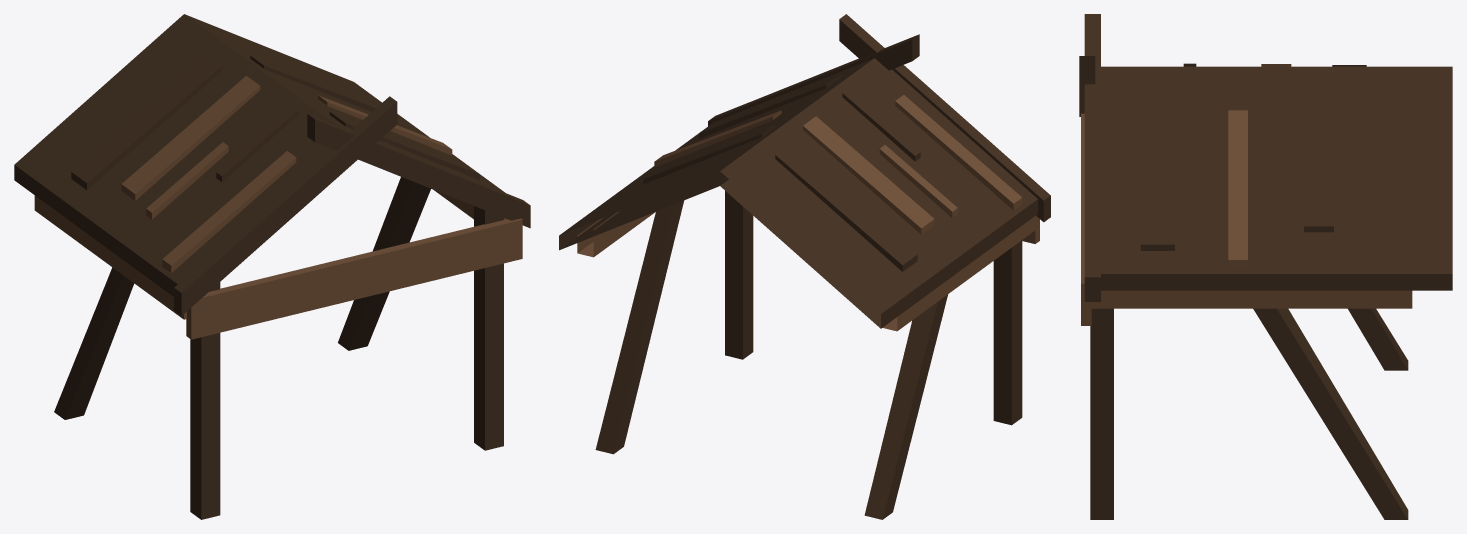
The model's file is mine_entrance_1_mat.fbx.
3 views of the same model, side by side, from view 1: azimuth 30°, elevation 25°; view 2: azimuth 150°, elevation 25°; view 3: azimuth 270°, elevation 25° (orthographic). The views are drawn at different scales.
Parts seen in each view (by area): view 1: mine_entrance_1_mat; view 2: mine_entrance_1_mat; view 3: mine_entrance_1_mat.
Part boxes in pixels (x1,y1,x2,y2): mine_entrance_1_mat: (14,14,530,519); mine_entrance_1_mat: (559,14,1050,519); mine_entrance_1_mat: (1079,14,1452,519).
Size of the model in its own units: 232 by 236 by 198.
